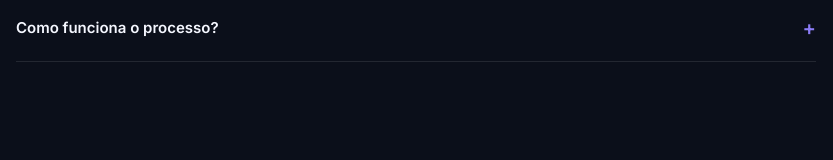
Test: Accordion › ao abrir, renderiza painel com role='region' e aria-labelledby apontando para o botão
This screenshot has width=833, height=160.
Step 1. Click the button "Como funciona o processo? +" → {"x": 117, "y": 28}, box [16,16,816,41]
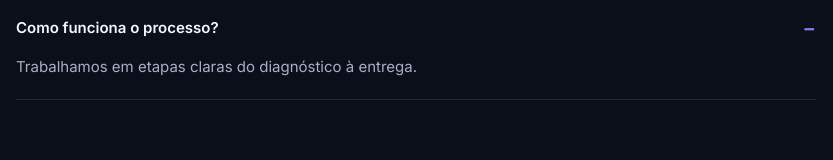
Result: the button "Como funciona o processo? −" is expanded at [16,16,816,41]
Result: the element named "Como funciona o processo?" reads "Trabalhamos em etapas claras do diagnóstico à entrega." at [16,57,417,76]
